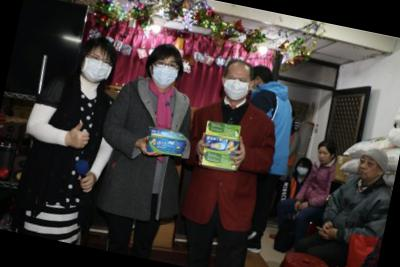with_mask: (80, 52, 115, 86), (149, 57, 181, 89), (223, 73, 250, 102), (297, 164, 311, 178)
without_mask: (357, 159, 383, 184), (316, 149, 333, 167)
